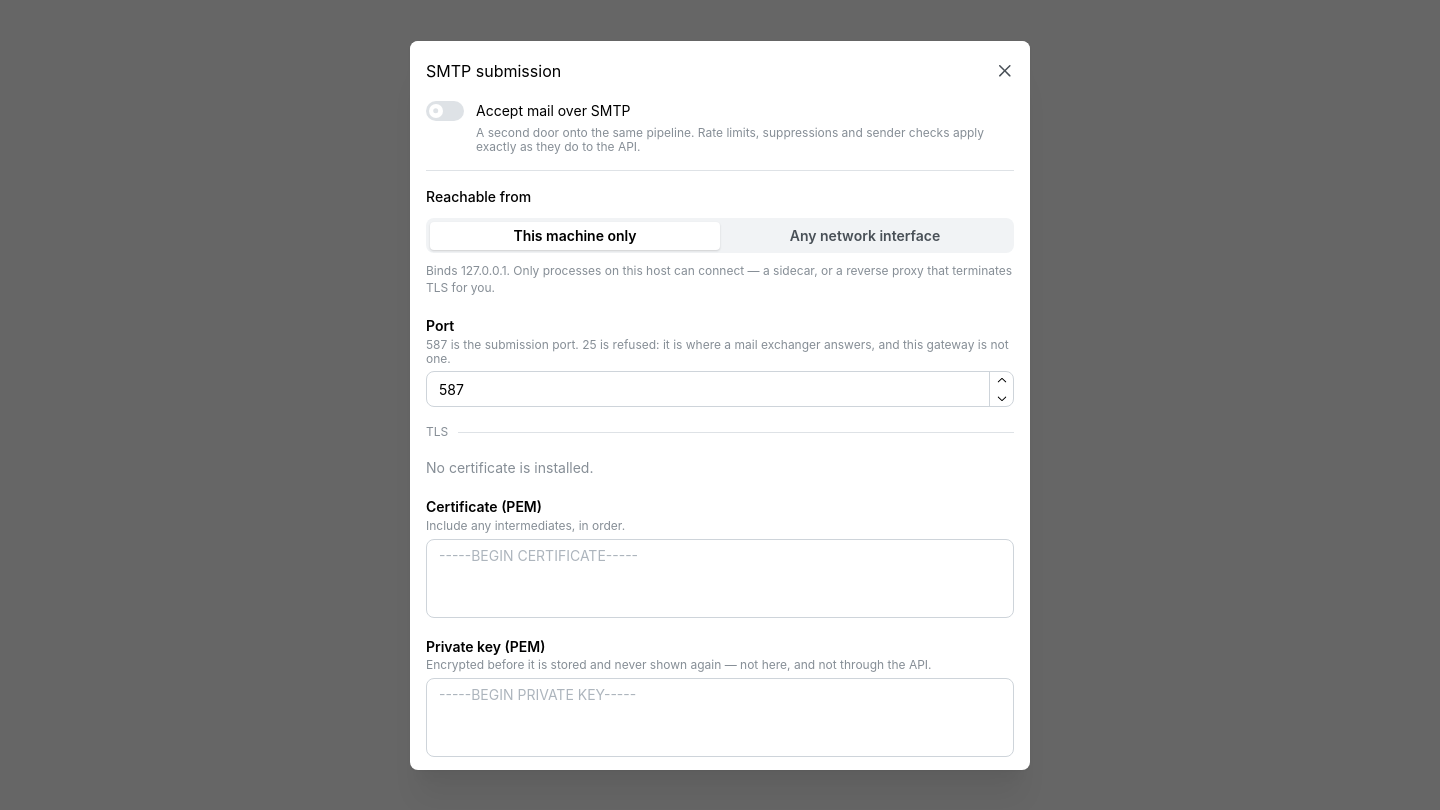
SmtpSubmissionForm › moving off loopback withdraws plain-text sign-in
Click the text "Any network interface". click: point(865, 235)
box: left=790, top=227, right=940, bottom=244
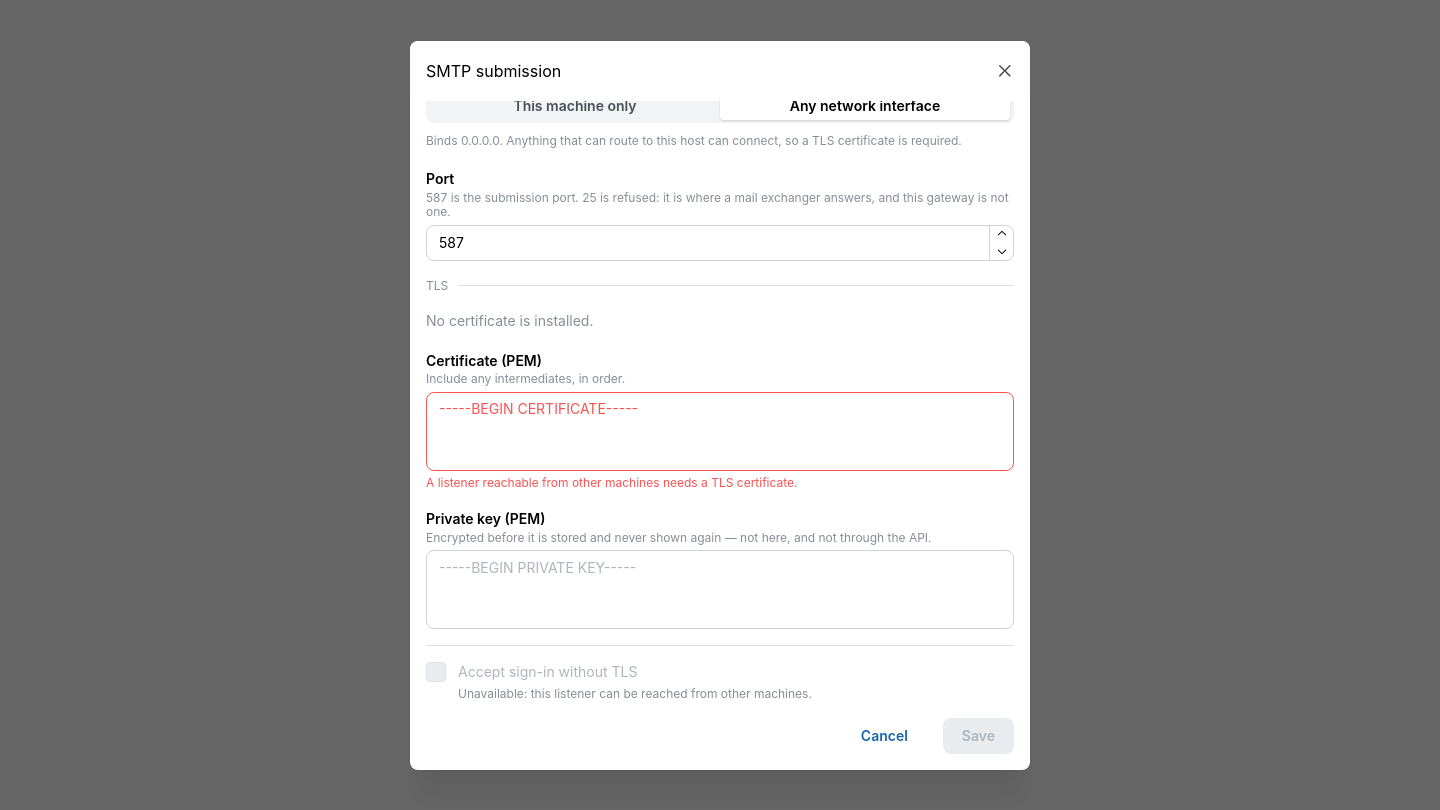
Expected: the checkbox labelled "Accept sign-in without TLS" is not checked, left=426, top=662, right=446, bottom=682
Expected: the checkbox labelled "Accept sign-in without TLS" is disabled, left=426, top=662, right=446, bottom=682
